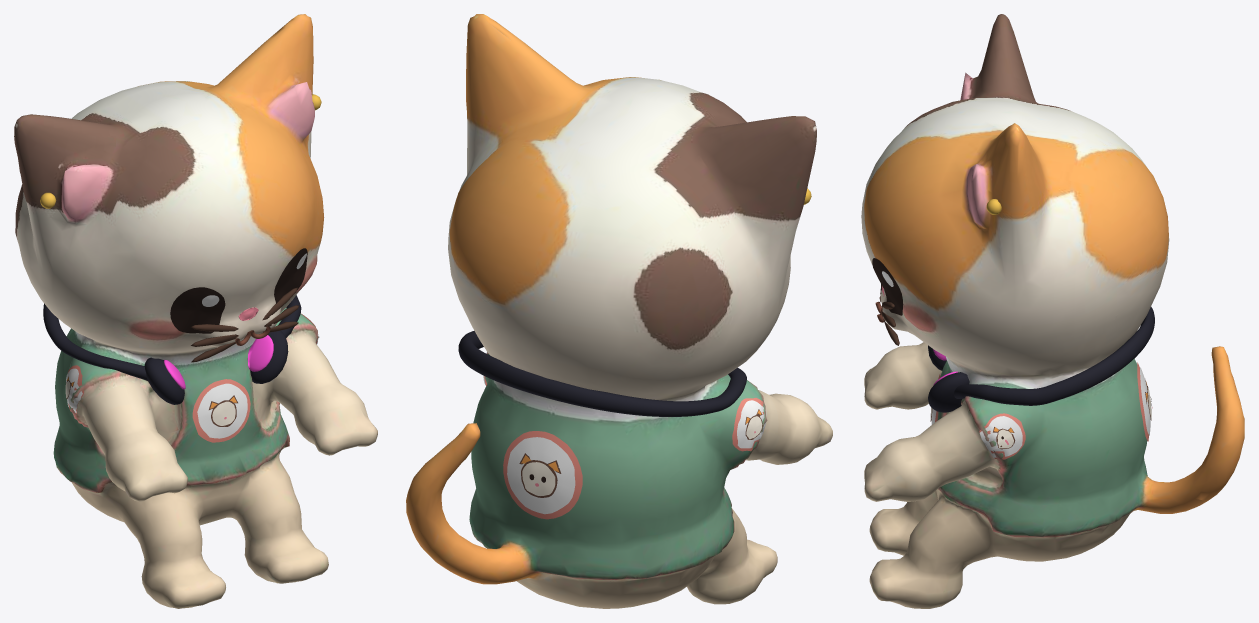
Rendered from cat.glb.
3 renders of one model, left to right at view 1: azimuth 30°, elevation 25°; view 2: azimuth 150°, elevation 25°; view 3: azimuth 270°, elevation 25°, orthographic. The views are drawn at different scales.
Visible parts, largest first — view 1: chibi, face; view 2: chibi, face; view 3: chibi, face.
Boxes of the visible parts, x1=… form: chibi: x1=14, y1=14, x2=377, y2=608; face: x1=40, y1=94, x2=321, y2=442; chibi: x1=406, y1=14, x2=832, y2=608; face: x1=458, y1=188, x2=811, y2=519; chibi: x1=861, y1=14, x2=1244, y2=608; face: x1=872, y1=199, x2=1154, y2=459.
Size of the model in its own units: 0.7668 by 1.24 by 0.8408.
33 materials, 1 textured.
